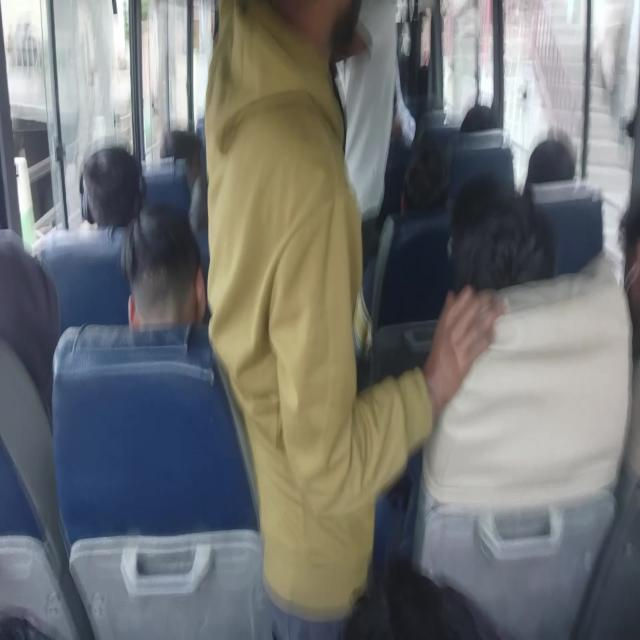person: (222, 0, 350, 191), (320, 518, 476, 640), (462, 181, 559, 301), (318, 0, 400, 132), (87, 146, 158, 279), (136, 209, 193, 345), (0, 242, 68, 348), (616, 199, 640, 398), (538, 134, 580, 219), (397, 150, 445, 223), (411, 66, 461, 133), (167, 133, 213, 178), (461, 98, 483, 140)
